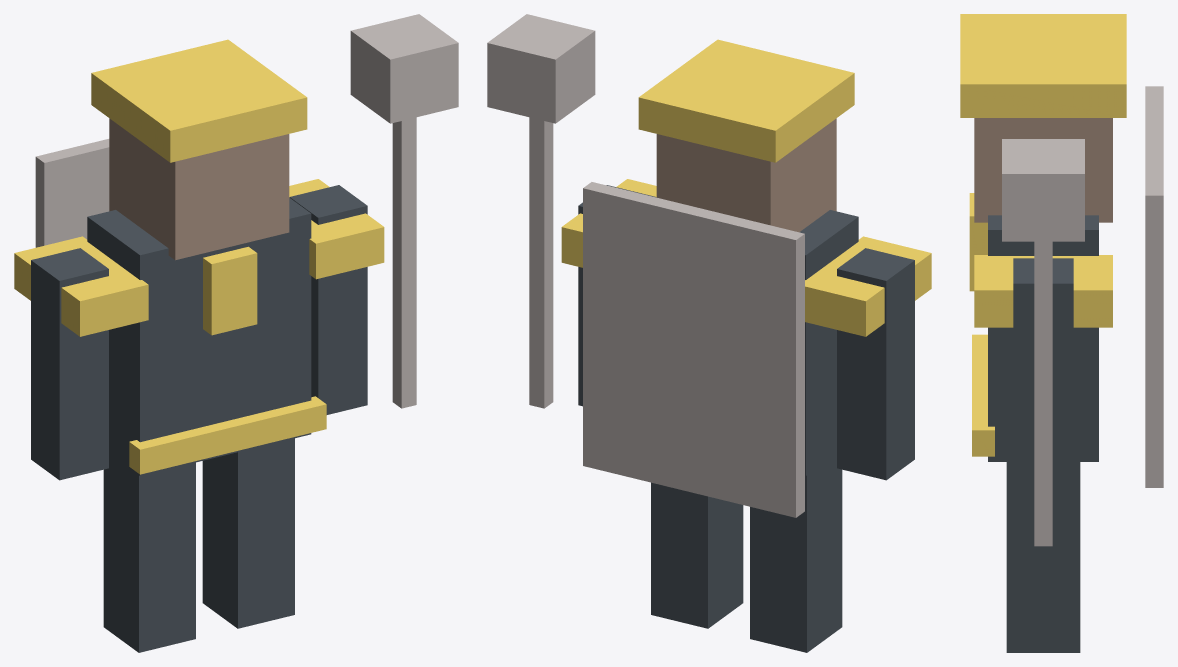
Rendered from 15_isolde_deepwell_runner_from_foundry.glb.
3 renders of one model, left to right at view 1: azimuth 30°, elevation 25°; view 2: azimuth 150°, elevation 25°; view 3: azimuth 270°, elevation 25°, orthographic. The views are drawn at different scales.
Visible parts, largest first — view 1: Isolde Deepwell, Runner from Foundry; view 2: Isolde Deepwell, Runner from Foundry; view 3: Isolde Deepwell, Runner from Foundry.
Boxes of the visible parts, <box> form: Isolde Deepwell, Runner from Foundry: <box>14,14,458,652</box>; Isolde Deepwell, Runner from Foundry: <box>487,14,931,652</box>; Isolde Deepwell, Runner from Foundry: <box>960,14,1163,652</box>.
Bounding box in the file's own units: 1.12 × 1.46 × 0.4777.
